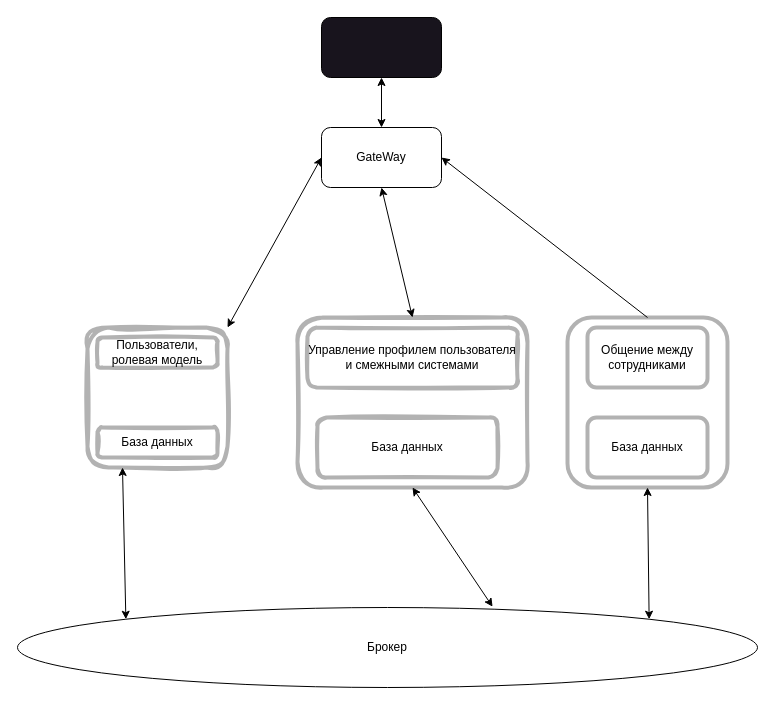
Some shapes in this 775 by 705 pixel diagram are drawn without their labels. Each missing label, with the box of its shape:
Front: (320, 16, 442, 78)
Авторизация: (85, 325, 229, 469)
Личный кабинет: (295, 315, 529, 489)
Переписка: (565, 315, 729, 489)
